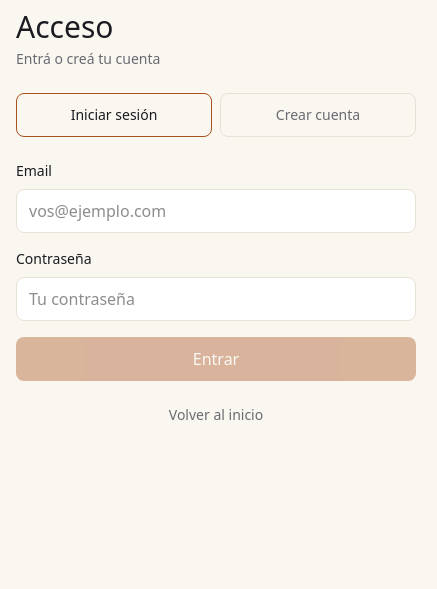
Test: AccessFlow — form account-first (S9, S5c) › arranca en login (email+contraseña, sin nombre) y alterna a signup
Expected: the field labelled "Email" is shown, [16,189,416,233]
Expected: the password field labelled "Contraseña" is shown, [16,277,416,321]
Click the button "Crear cuenta": (318, 115) [220,93,416,137]
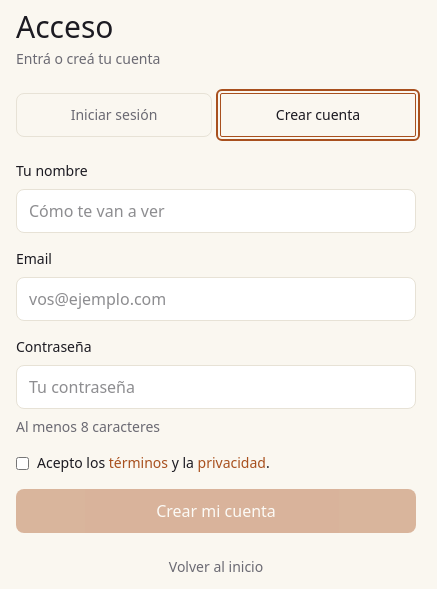
Now the field labelled "Tu nombre" is shown, box [16,189,416,233]
Now the text "Acepto los" is shown, box [37,453,109,472]
